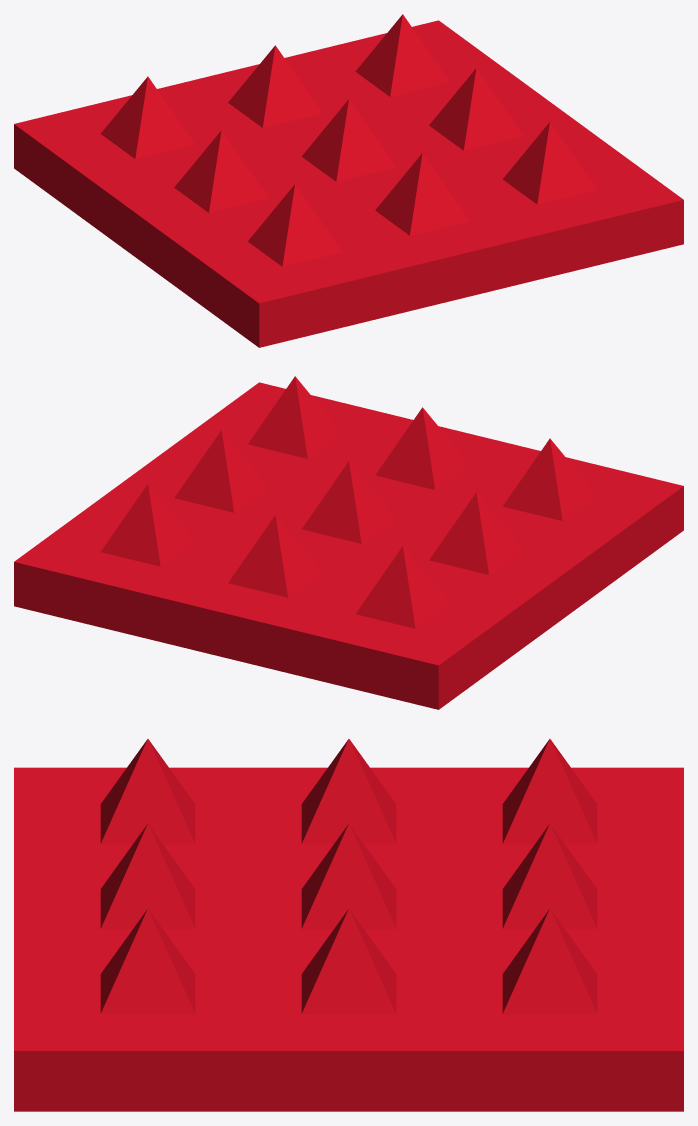
Rendered from diken.fbx.
The picture shows the model from 3 angles, top to bottom: view 1: azimuth 30°, elevation 25°; view 2: azimuth 150°, elevation 25°; view 3: azimuth 270°, elevation 25°; orthographic projection. The views are drawn at different scales.
Parts seen in each view (by area): view 1: Cube.001; view 2: Cube.001; view 3: Cube.001.
Boxes of the visible parts, x1,y1,x2,y2 form: Cube.001: (14, 14, 683, 347); Cube.001: (14, 376, 683, 709); Cube.001: (14, 739, 683, 1111).
Bounding box in the file's own units: 2 × 0.4832 × 2.
